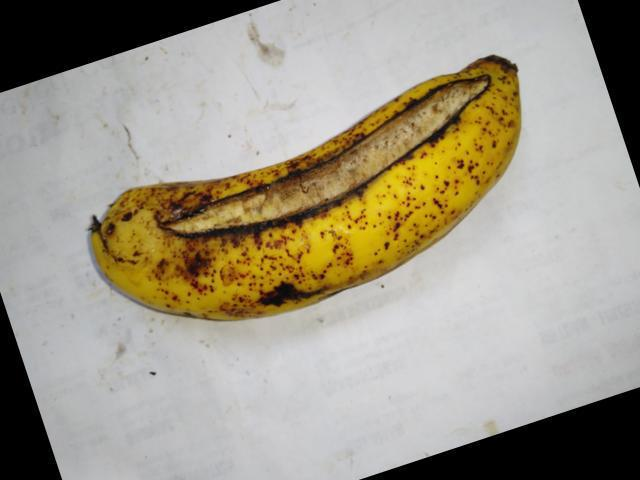rotten: (162, 75, 507, 260)
